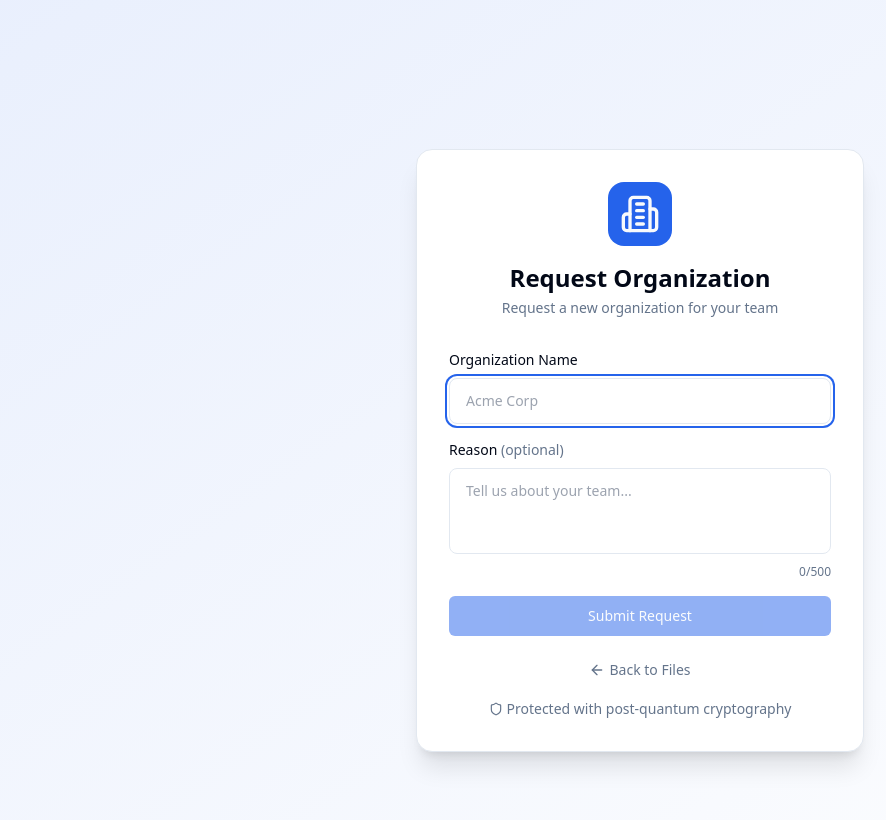
Test case: TenantRequestPage › error handling › should show error when submission fails
The width and height of the screenshot is (886, 820).
Type "Test Org" into the field with placeholder "Acme Corp" at (640, 400), box left=449, top=378, right=831, bottom=424
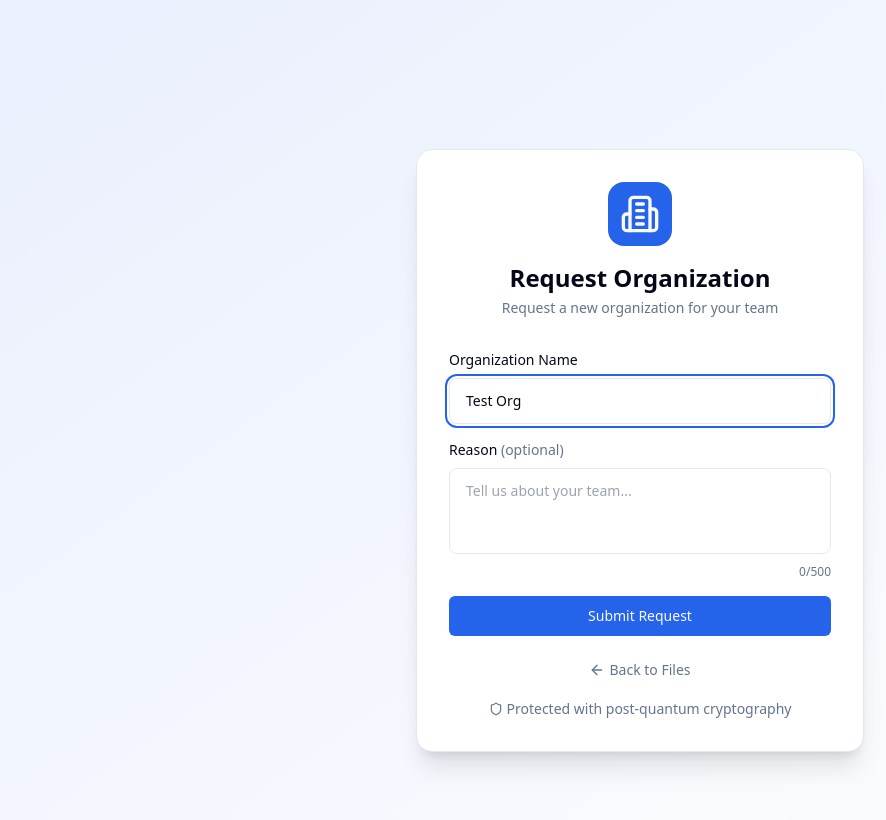
Click the button "Submit Request" at (640, 616), box left=449, top=596, right=831, bottom=636
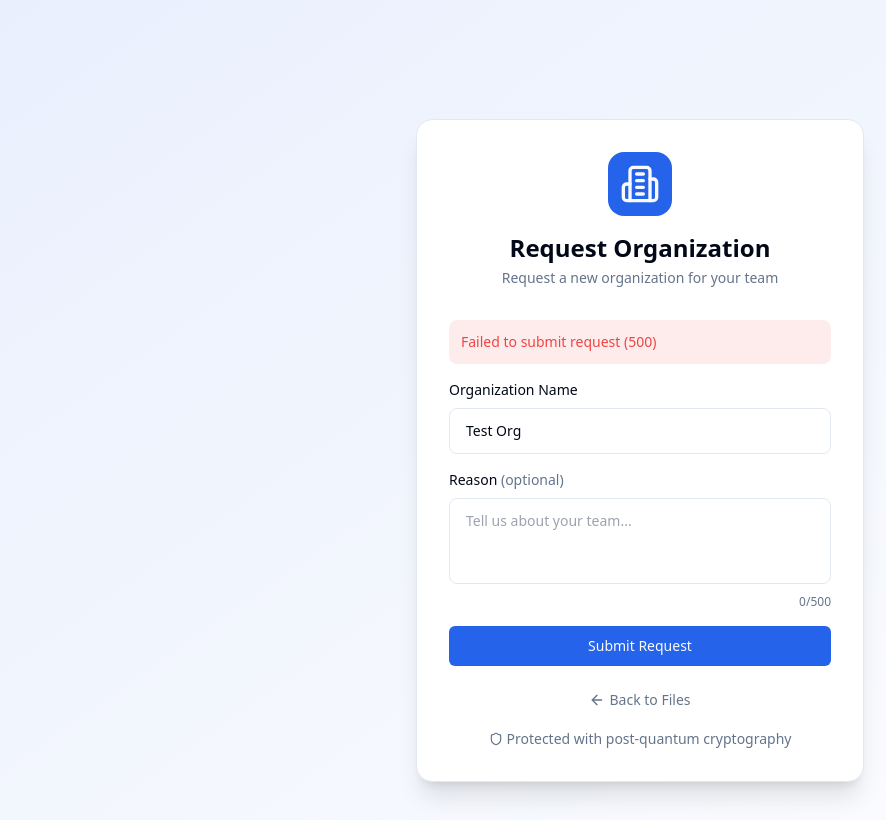
Now the text "Failed to submit request (500)" is shown, box left=449, top=320, right=831, bottom=364
